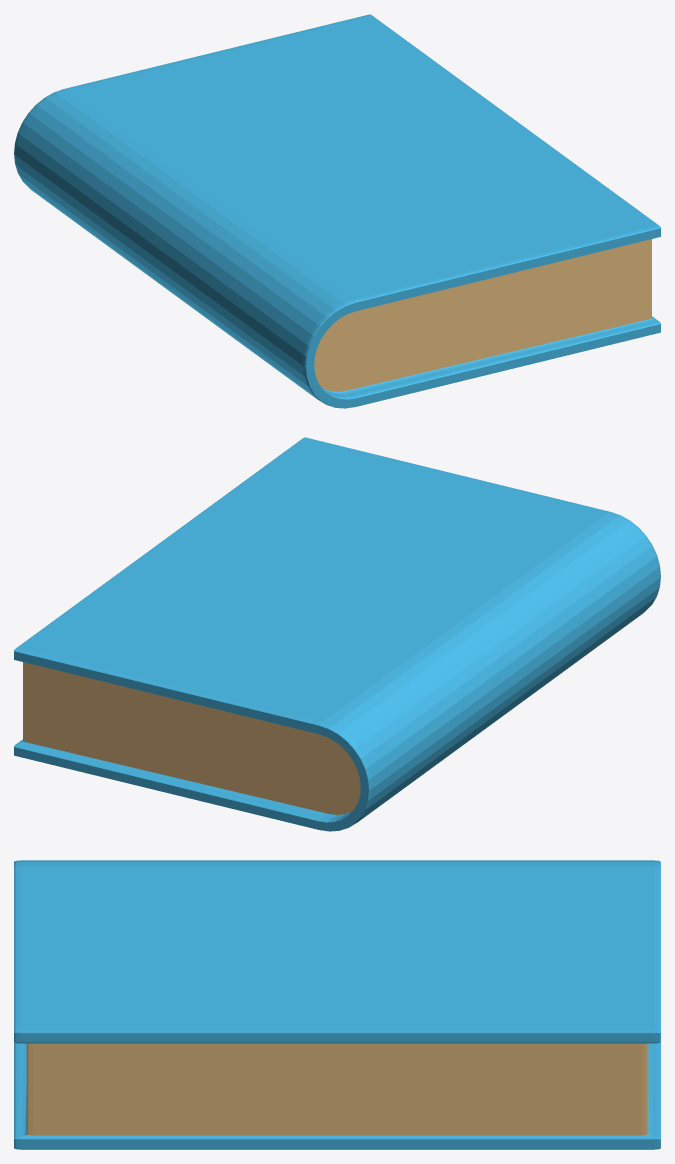
The model's file is BookBlue.fbx.
The picture shows the model from 3 angles, top to bottom: view 1: azimuth 30°, elevation 25°; view 2: azimuth 150°, elevation 25°; view 3: azimuth 270°, elevation 25°; orthographic projection. The views are drawn at different scales.
Parts seen in each view (by area): view 1: Book.002; view 2: Book.002; view 3: Book.002.
Boxes of the visible parts, x1,y1,x2,y2 form: Book.002: (14,14,660,408); Book.002: (14,437,660,831); Book.002: (14,860,660,1149).
Bounding box in the file's own units: 702 × 200 × 995.
